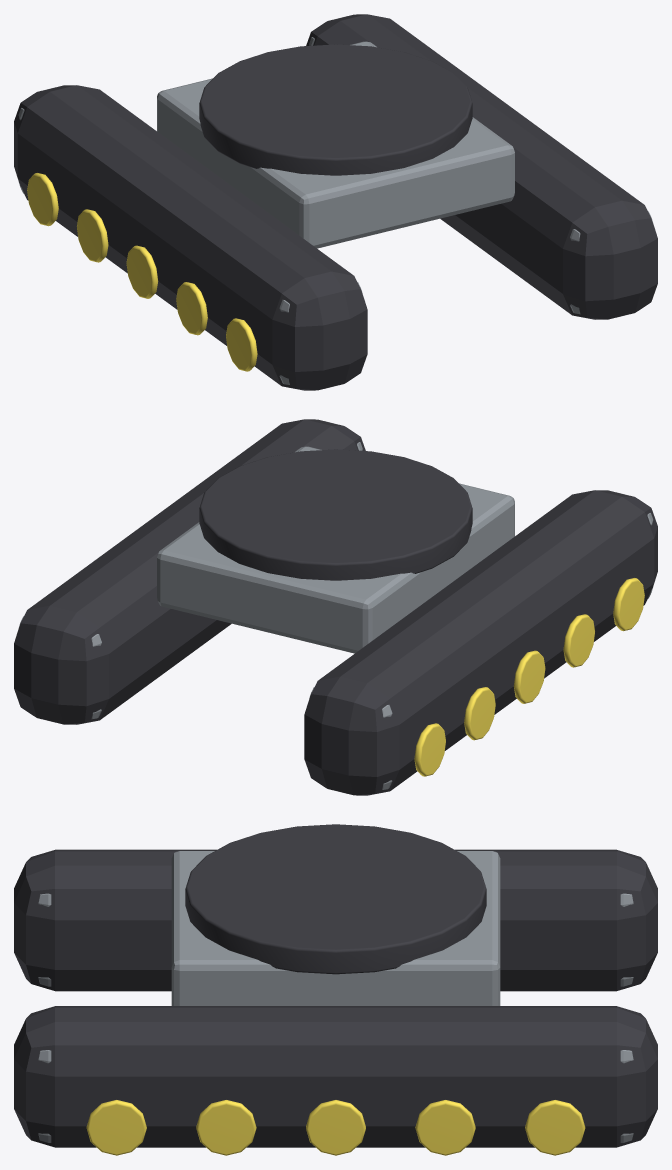
The model's file is excavator_base.fbx.
3 renders of one model, top to bottom at view 1: azimuth 30°, elevation 25°; view 2: azimuth 150°, elevation 25°; view 3: azimuth 270°, elevation 25°, orthographic. The views are drawn at different scales.
Parts seen in each view (by area): view 1: Visual; view 2: Visual; view 3: Visual.
Part boxes in pixels (x1,y1,x2,y2): Visual: (14, 14, 657, 390); Visual: (14, 419, 657, 795); Visual: (14, 824, 657, 1155).
Size of what is drawn, in the model's own units: 366 by 140 by 470.
